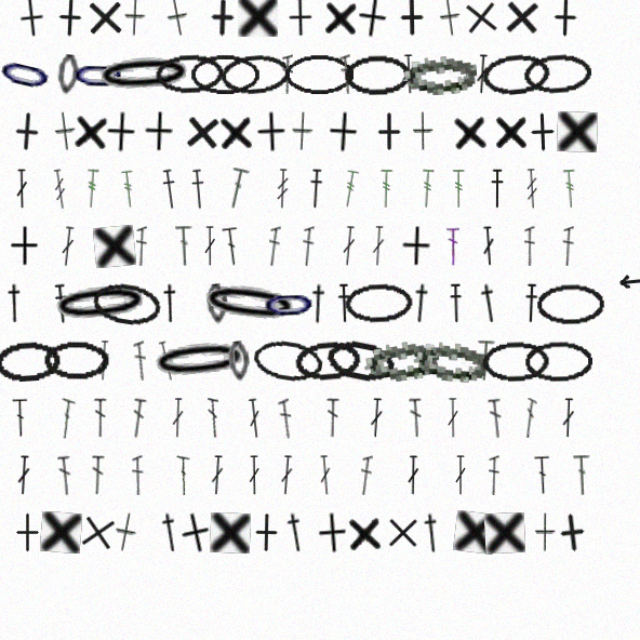chain: (214, 297, 310, 345), (76, 298, 172, 344), (168, 351, 264, 396), (117, 88, 212, 130), (366, 351, 439, 396), (330, 350, 398, 398), (114, 298, 183, 344), (263, 351, 331, 397), (402, 88, 473, 130), (413, 353, 484, 395), (475, 87, 542, 130), (234, 88, 301, 130), (25, 85, 84, 132), (302, 353, 367, 395), (514, 88, 579, 129), (25, 354, 89, 394), (349, 301, 414, 340), (174, 89, 238, 128), (527, 302, 591, 340), (207, 90, 272, 127), (349, 90, 412, 128), (476, 355, 539, 393), (516, 355, 579, 393), (294, 90, 358, 127), (71, 355, 133, 392), (272, 302, 325, 340), (96, 90, 148, 128), (83, 90, 105, 128), (221, 302, 243, 340), (241, 355, 263, 393)
double: (239, 195, 262, 234), (175, 355, 195, 393), (236, 249, 255, 287), (471, 355, 489, 392), (84, 408, 101, 446), (193, 249, 210, 286), (561, 461, 578, 498), (151, 408, 167, 446), (482, 408, 498, 446), (42, 408, 58, 445), (525, 461, 541, 498), (86, 249, 101, 287), (259, 408, 274, 446), (288, 408, 303, 446), (84, 461, 99, 499), (346, 249, 361, 286), (470, 90, 484, 127), (374, 249, 388, 286), (476, 249, 490, 286), (120, 355, 134, 392), (154, 355, 168, 392), (372, 408, 386, 445), (409, 408, 423, 445), (514, 408, 528, 445), (46, 461, 60, 498), (225, 461, 239, 498), (289, 461, 303, 498), (325, 461, 339, 498), (345, 90, 358, 127), (403, 90, 416, 127), (278, 249, 291, 286), (189, 408, 202, 445), (550, 408, 563, 445), (115, 461, 128, 498), (194, 461, 207, 498), (363, 461, 376, 498), (45, 196, 57, 233), (219, 249, 231, 286), (310, 249, 322, 286), (444, 249, 456, 286), (118, 408, 130, 445), (333, 408, 345, 445), (444, 408, 456, 445), (260, 461, 272, 498), (407, 461, 419, 498), (451, 461, 463, 498), (551, 249, 562, 286), (153, 461, 164, 498), (292, 90, 302, 127), (157, 249, 167, 286), (516, 249, 526, 286), (223, 408, 233, 445), (483, 461, 493, 498)
half_double: (408, 301, 433, 340), (471, 301, 496, 340), (176, 513, 201, 552), (292, 513, 317, 552), (314, 302, 337, 340), (419, 514, 442, 552), (34, 302, 55, 339), (178, 302, 199, 339), (179, 196, 197, 234), (206, 196, 223, 234), (79, 302, 96, 340), (315, 196, 331, 233), (342, 302, 357, 339), (445, 302, 460, 339), (515, 302, 530, 339), (484, 196, 498, 233)
noise: (601, 293, 632, 307), (621, 537, 640, 557)
single: (100, 511, 143, 554), (450, 512, 491, 553), (540, 512, 581, 553), (40, 36, 80, 76), (456, 36, 496, 76), (198, 142, 238, 182), (117, 248, 157, 288), (494, 36, 533, 75), (36, 142, 75, 181), (68, 513, 107, 552), (194, 512, 229, 554), (77, 37, 115, 75), (109, 37, 147, 75), (218, 37, 256, 75), (535, 37, 573, 75), (514, 143, 552, 181), (546, 143, 584, 181), (225, 514, 263, 552), (479, 514, 517, 552), (97, 142, 134, 181), (251, 37, 288, 74), (290, 37, 327, 74), (393, 37, 430, 74), (372, 143, 409, 180), (38, 514, 75, 551), (259, 514, 296, 551), (385, 514, 422, 551), (448, 143, 484, 181), (329, 37, 364, 75), (232, 143, 267, 181), (351, 514, 386, 552), (359, 36, 391, 76), (487, 143, 521, 180), (333, 143, 363, 181), (323, 514, 353, 552), (128, 143, 157, 181), (267, 143, 296, 181), (163, 143, 192, 180), (401, 249, 430, 286), (39, 249, 67, 286), (183, 36, 208, 75), (135, 513, 160, 552), (436, 36, 459, 75), (80, 142, 103, 181), (146, 37, 166, 74), (301, 143, 321, 180), (413, 143, 432, 180), (526, 514, 545, 551)
treble: (346, 196, 364, 234), (78, 196, 95, 234), (142, 196, 158, 234), (419, 196, 434, 233), (551, 196, 566, 233), (109, 196, 123, 233), (516, 196, 530, 233), (286, 196, 299, 233), (382, 196, 395, 233), (449, 196, 462, 233)
